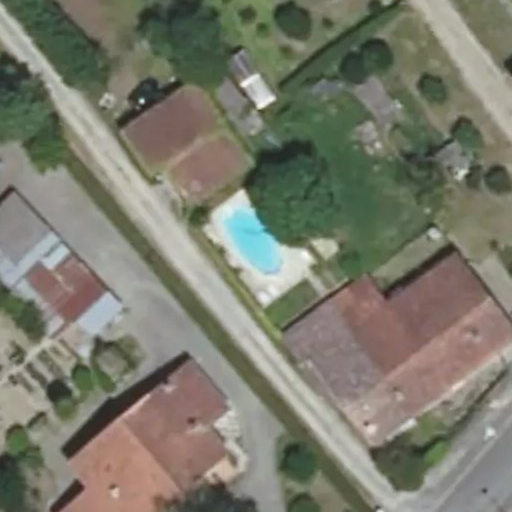pool: (220, 227, 291, 255)
